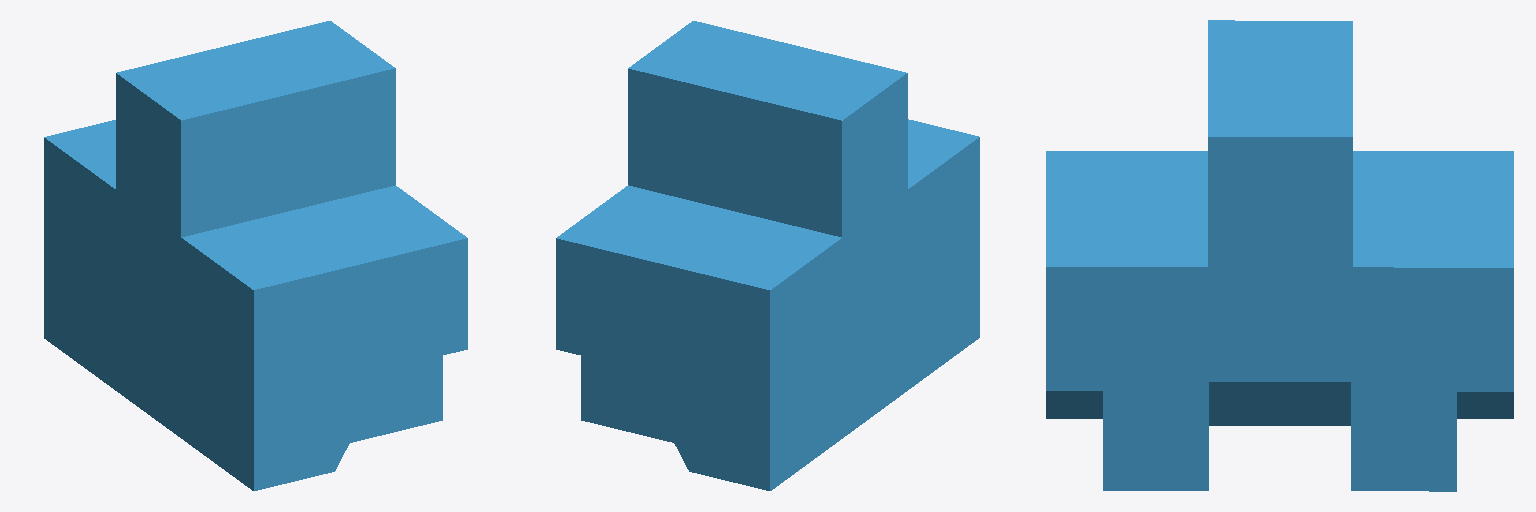
robot.urdf — four_dof:
<robot name="four_dof">


    <link name="base_link">
    </link>

    <link name="body">
        <visual>
            <geometry>
                <mesh filename="package://four_dof/meshes/body_for_Sym.stl" scale="0.001 0.001 0.001"/>
            </geometry>
        </visual>

        <collision>
            <geometry>
                <mesh filename="package://four_dof/meshes/body_for_Sym.stl" scale="0.001 0.001 0.001"/>
            </geometry>
        </collision>

    </link>

    <!--left thigh-->
    <link name="left_front_thigh">
        <visual>
            <geometry>
                <mesh filename="package://four_dof/meshes/left_front_thigh_link.stl" scale="0.001 0.001 0.001"/>
            </geometry>
        </visual>

        <collision>
            <geometry>
                <mesh filename="package://four_dof/meshes/left_front_thigh_link.stl" scale="0.001 0.001 0.001"/>
            </geometry>
        </collision>
    </link>


    <!--link name="right_front_thigh">
        <visual>
            <geometry>
                <mesh filename="package://four_dof/meshes/right_front_thigh_link.stl" scale="0.001 0.001 0.001"/>
            </geometry>
        </visual>
        <collision>
            <geometry>
                <mesh filename="package://four_dof/meshes/right_front_thigh_link.stl" scale="0.001 0.001 0.001"/>
            </geometry>
        </collision>
    </link-->


    <joint name="base_to_body" type="fixed">
        <parent link="base_link"/>
        <child link="body"/>
        <origin xyz="0 0 0" rpy="1.57 0 0 "/>
    </joint>

    <joint name="body_to_left_thigh" type="revolute">
        <parent link="body"/>
        <child link="left_front_thigh"/>
        <origin xyz="0.035 0.0165 -0.05125" rpy="0 0 0"/>
        <axis xyz="0.0 0.0 1"/>
        <limit effort="1000.0" lower="-1.57" upper="1.57" velocity="0.5"/>
    </joint>
</robot>

--- Render facts (derived) ---
3 views of the same robot in one strip: view 1: azimuth 30°, elevation 25°; view 2: azimuth 150°, elevation 25°; view 3: azimuth 270°, elevation 25° (orthographic).
Robot: four_dof — 3 links, 2 joints (1 revolute, 1 fixed); root link base_link; default pose: every joint at zero.
Links seen in each view (by area): view 1: body; view 2: body; view 3: body.
Link boxes in pixels (left/top/right/bottom): body: left=44, top=21, right=467, bottom=490; body: left=556, top=21, right=979, bottom=490; body: left=1046, top=20, right=1513, bottom=491.
Bounding box of the posed robot: 0.0729 × 0.1236 × 0.1034 m (x, y, z).
1 mesh visuals loaded from 2 distinct referenced files (1 binary STL); not drawn: 1 (reference not matched to a file when rendering).
